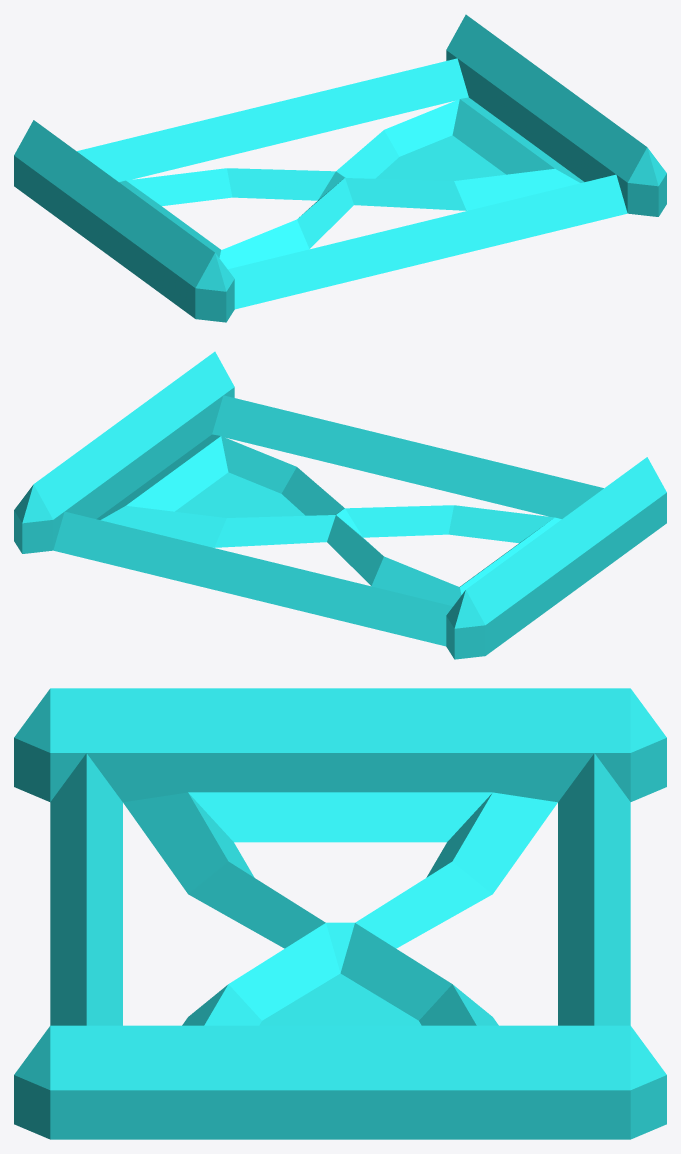
Rendered from Inkantacja.fbx.
The picture shows the model from 3 angles, top to bottom: view 1: azimuth 30°, elevation 25°; view 2: azimuth 150°, elevation 25°; view 3: azimuth 270°, elevation 25°; orthographic projection. The views are drawn at different scales.
Visible parts, largest first — view 1: Cylinder; view 2: Cylinder; view 3: Cylinder.
Part boxes in pixels (x1,y1,x2,y2): Cylinder: (14,14,666,322); Cylinder: (14,351,666,659); Cylinder: (14,688,666,1139).
Bounding box in the file's own units: 480 × 60 × 360.
